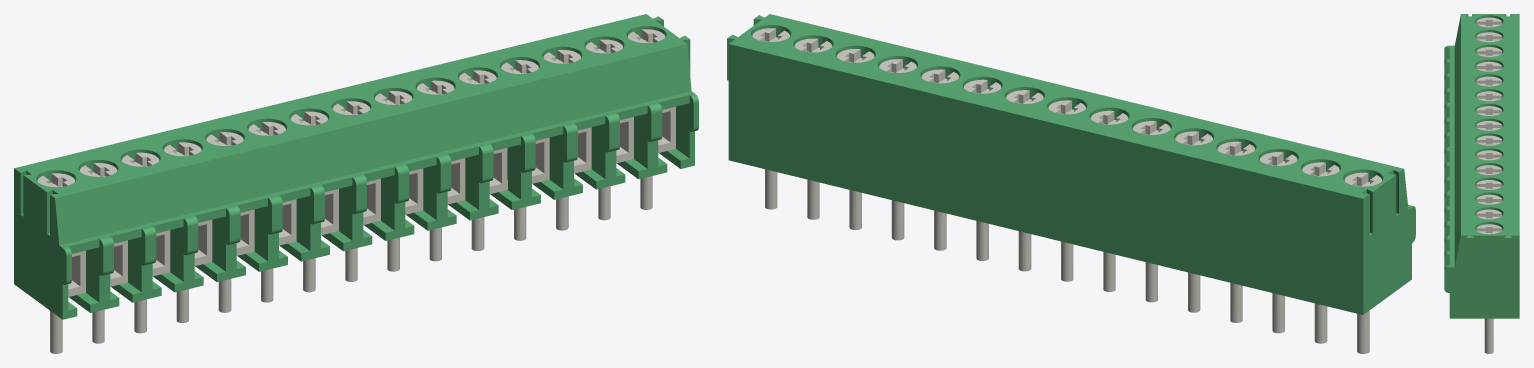
The model's file is kc-terminalblock_phoenix_pt-1_5-15-3.5-h_1x15_p3.50mm_horizontal.glb.
3 views of the same model, side by side, from view 1: azimuth 30°, elevation 25°; view 2: azimuth 150°, elevation 25°; view 3: azimuth 270°, elevation 25° (orthographic). The views are drawn at different scales.
Visible parts, largest first — view 1: 0.08333333333333333_0.4166666666666667_0.16666666666666666_0, 0.6666666666666666_0.6666666666666666_0.5833333333333334_0.8; view 2: 0.08333333333333333_0.4166666666666667_0.16666666666666666_0, 0.6666666666666666_0.6666666666666666_0.5833333333333334_0.8; view 3: 0.08333333333333333_0.4166666666666667_0.16666666666666666_0, 0.6666666666666666_0.6666666666666666_0.5833333333333334_0.8.
Boxes of the visible parts, x1=… form: 0.08333333333333333_0.4166666666666667_0.16666666666666666_0: x1=14, y1=14, x2=698, y2=319; 0.6666666666666666_0.6666666666666666_0.5833333333333334_0.8: x1=37, y1=29, x2=675, y2=353; 0.08333333333333333_0.4166666666666667_0.16666666666666666_0: x1=727, y1=14, x2=1415, y2=314; 0.6666666666666666_0.6666666666666666_0.5833333333333334_0.8: x1=752, y1=28, x2=1381, y2=353; 0.08333333333333333_0.4166666666666667_0.16666666666666666_0: x1=1444, y1=14, x2=1519, y2=318; 0.6666666666666666_0.6666666666666666_0.5833333333333334_0.8: x1=1476, y1=17, x2=1502, y2=353.
Bounding box in the file's own units: 5.31 × 1.37 × 0.7547.
